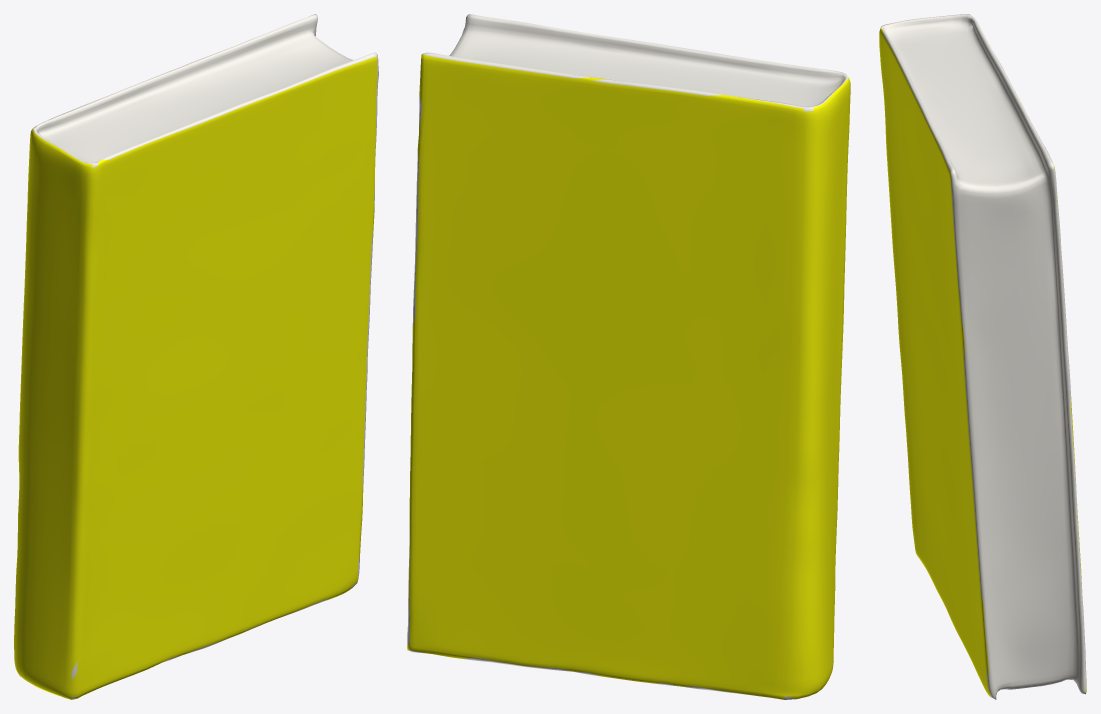
Rendered from book_runtime.glb.
3 renders of one model, left to right at view 1: azimuth 30°, elevation 25°; view 2: azimuth 150°, elevation 25°; view 3: azimuth 270°, elevation 25°, orthographic. The views are drawn at different scales.
Parts seen in each view (by area): view 1: FrontCover, Spine, PageBlock, BookBody; view 2: BackCover, Spine, PageBlock, BookBody; view 3: PageBlock, FrontCover, BookBody.
Part boxes in pixels (box(x1,y1,x2,y2)): FrontCover: box(71, 56, 377, 699); Spine: box(14, 129, 92, 699); PageBlock: box(32, 14, 378, 662); BookBody: box(36, 18, 372, 699); BackCover: box(407, 54, 813, 699); Spine: box(797, 77, 850, 698); PageBlock: box(407, 14, 847, 696); BookBody: box(407, 18, 845, 699); PageBlock: box(880, 14, 1086, 699); FrontCover: box(879, 28, 990, 696); BookBody: box(880, 15, 1086, 698).
Bounding box in the file's own units: 0.0351 × 0.0536 × 0.0187.
Materials: 5 (3 with a texture image).
